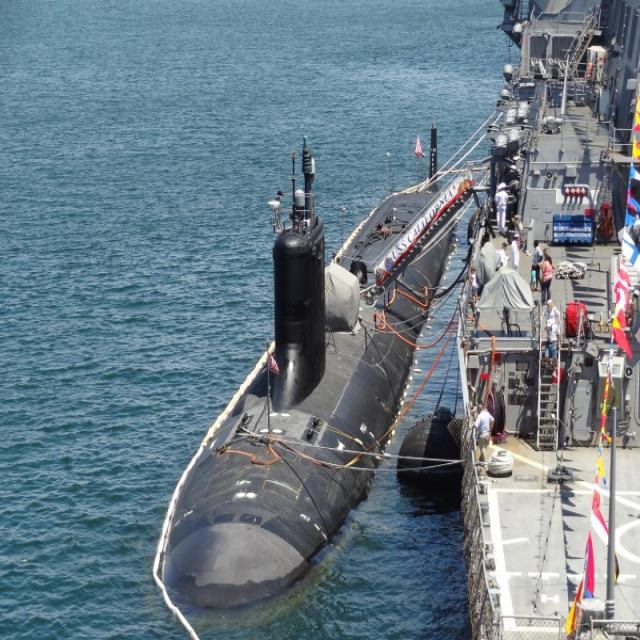submarine: (164, 124, 474, 605)
